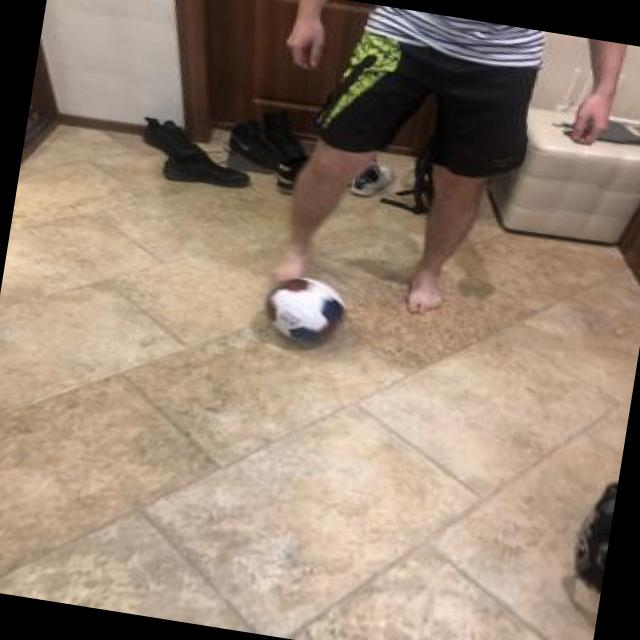Soccer Ball: (258, 268, 348, 347)
